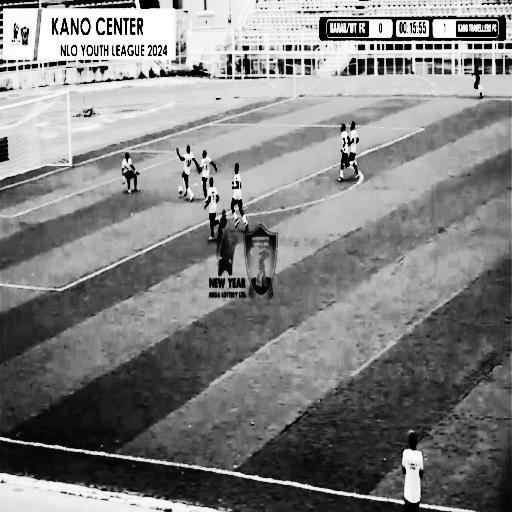ball: (177, 180, 184, 199)
keeper2: (117, 144, 143, 199)
referee: (472, 54, 488, 105)
team1: (226, 154, 253, 240), (173, 143, 198, 208), (336, 121, 350, 183)
team2: (202, 176, 224, 246), (200, 142, 220, 193), (350, 121, 365, 184)
